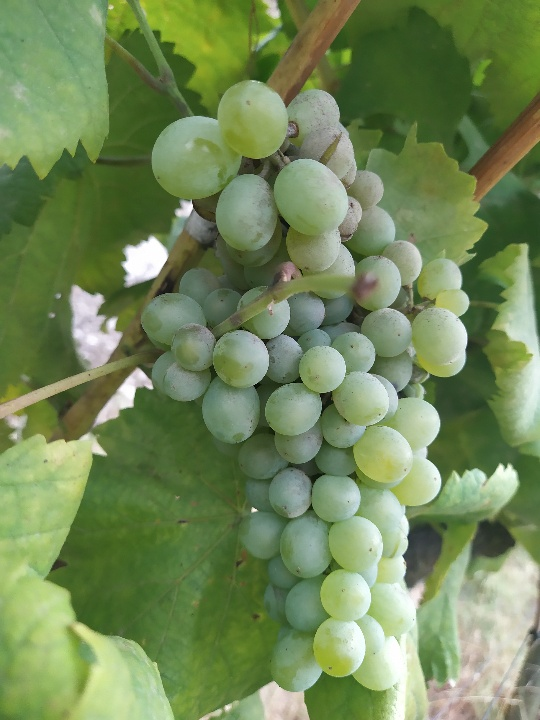grape: (138, 72, 477, 694)
